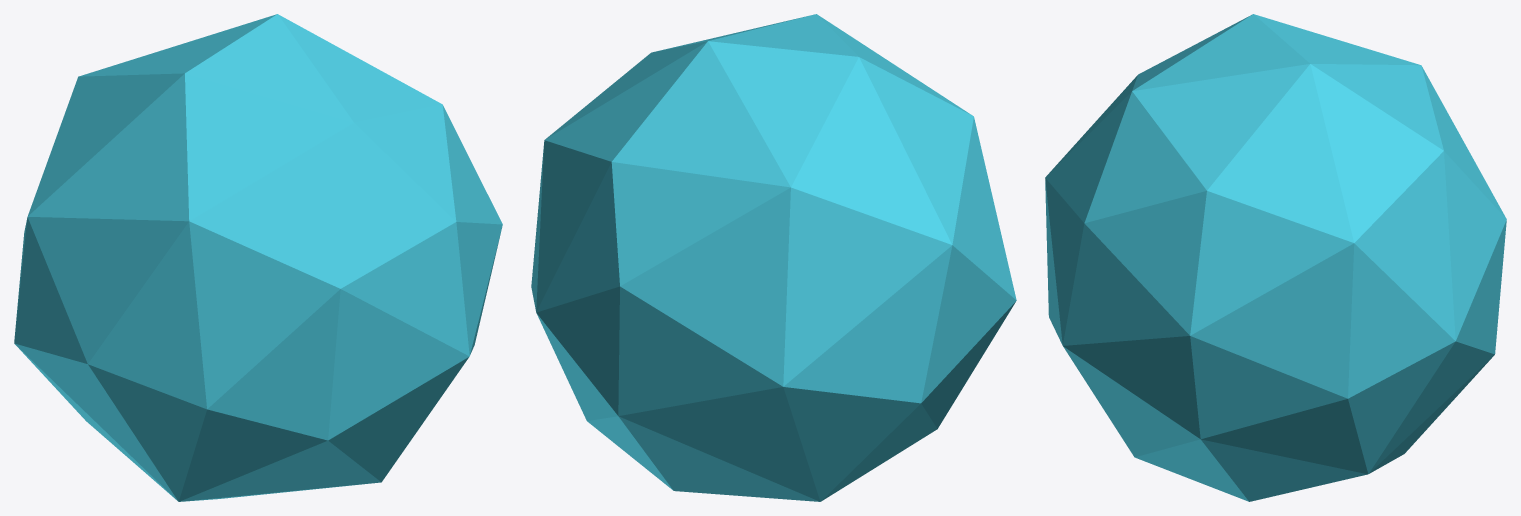
The model's file is iceball.fbx.
The picture shows the model from 3 angles, left to right: view 1: azimuth 30°, elevation 25°; view 2: azimuth 150°, elevation 25°; view 3: azimuth 270°, elevation 25°; orthographic projection. The views are drawn at different scales.
Parts seen in each view (by area): view 1: Sphere; view 2: Sphere; view 3: Sphere.
Boxes of the visible parts, x1,y1,x2,y2 form: Sphere: (14,14,502,501); Sphere: (531,14,1016,501); Sphere: (1045,14,1506,501).
Bounding box in the file's own units: 601 × 627 × 606.
